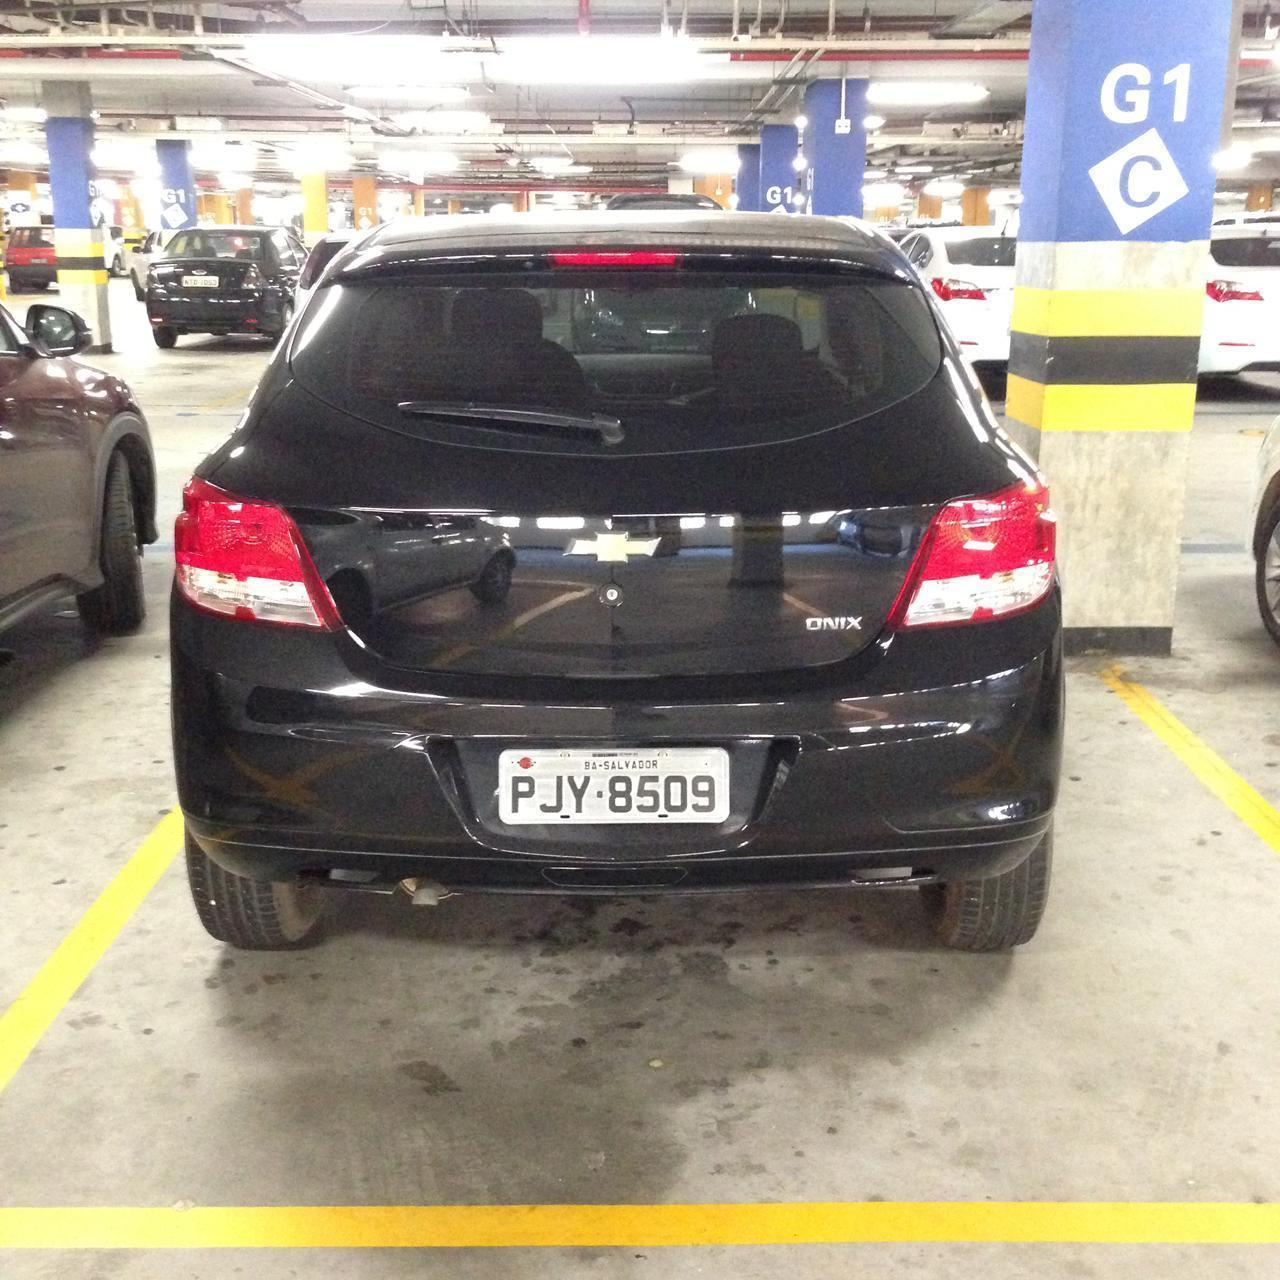placa de veiculo: (481, 721, 760, 860)
